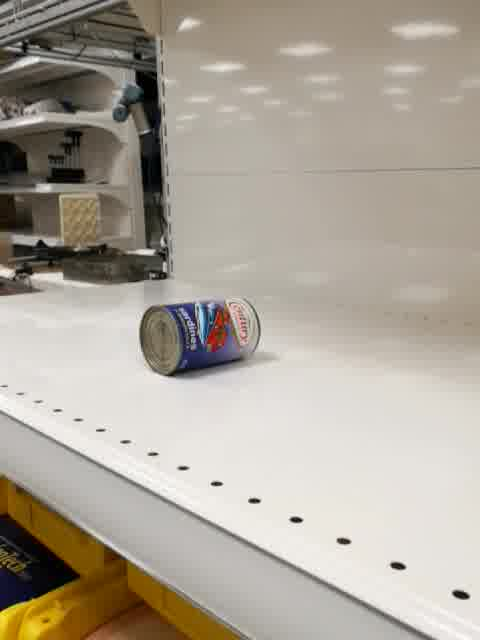sardine: (139, 298, 263, 377)
